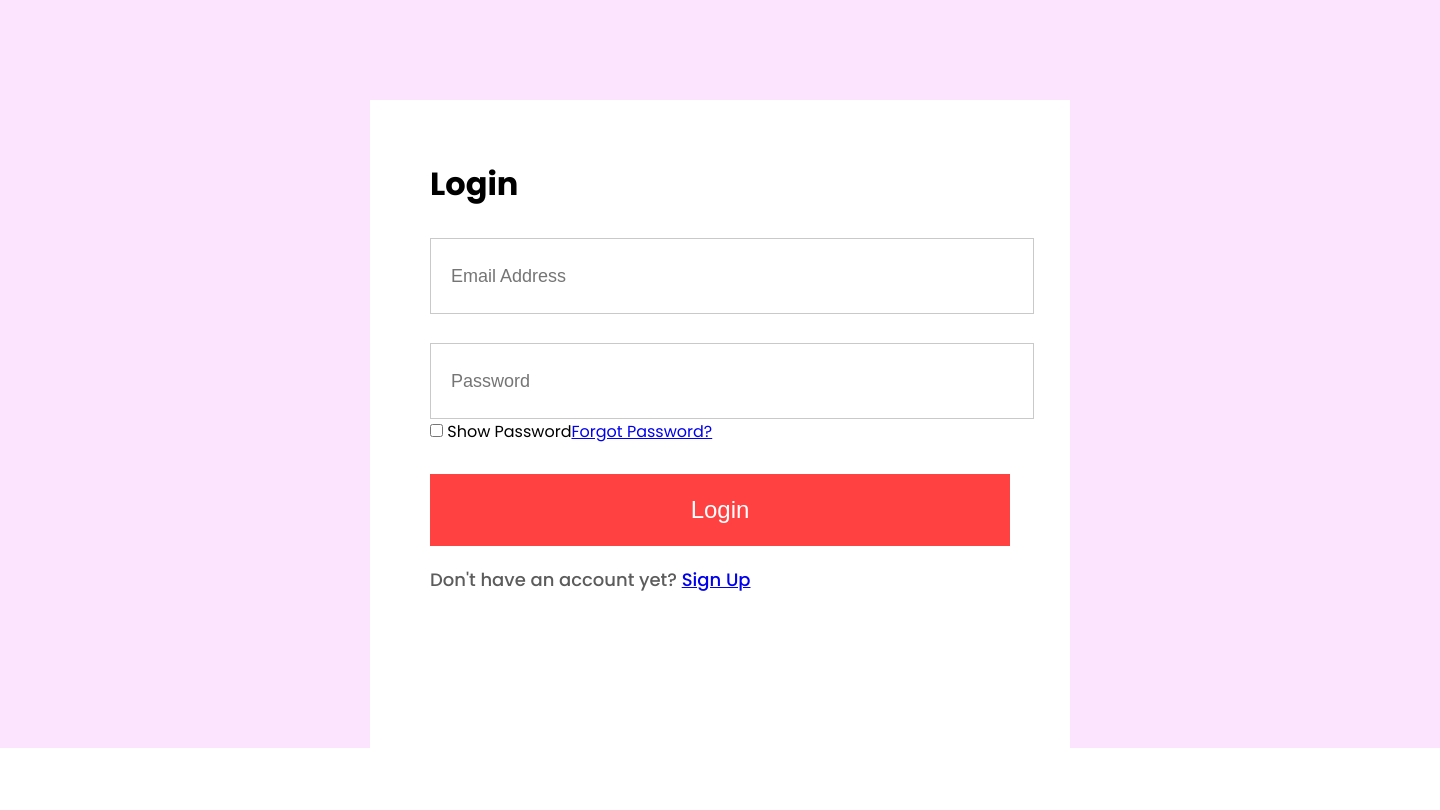
Test case: Login Component › shows error for empty email and password
Step 1. Click the button "Login" → (720, 510), box [430, 474, 1010, 546]
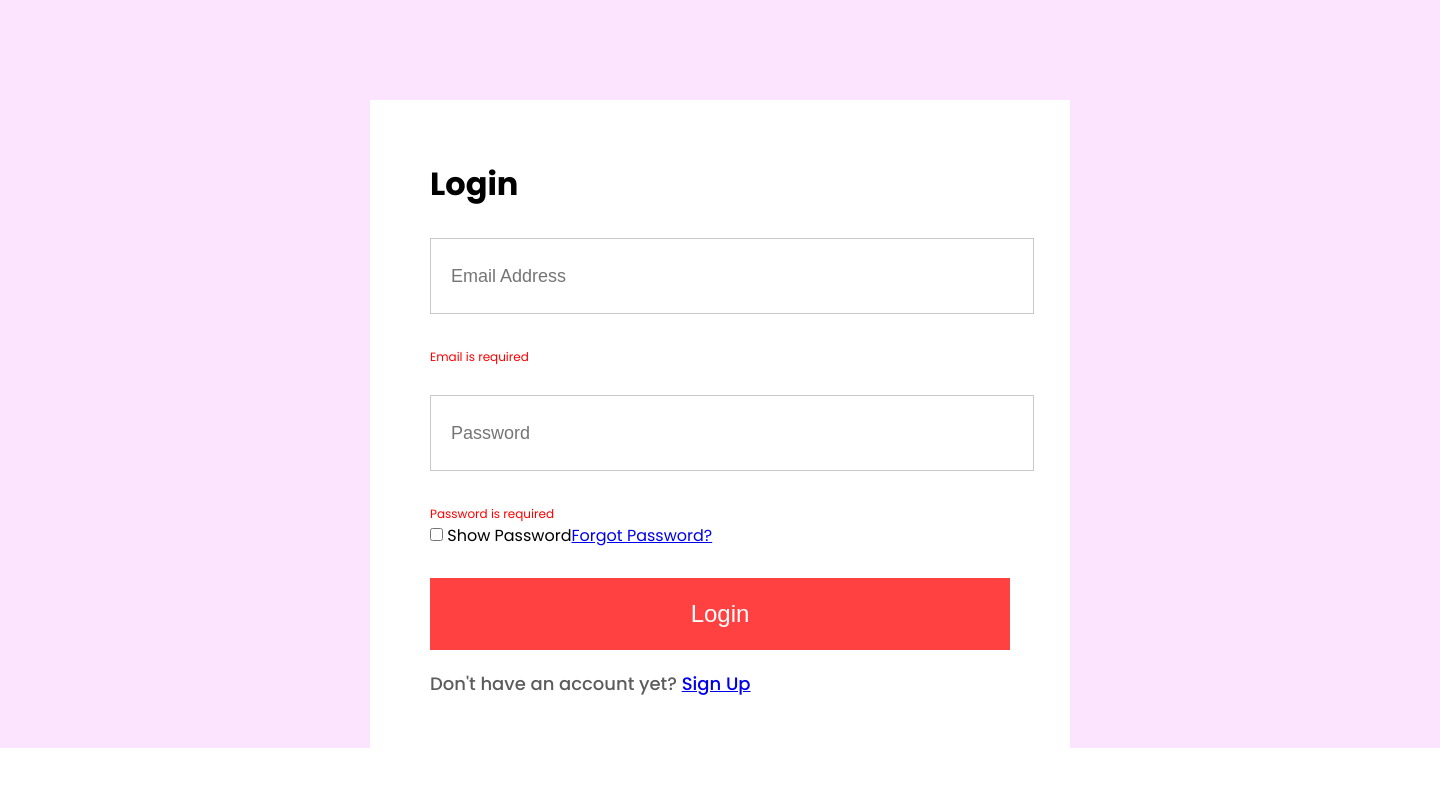
Result: the text "Email is required" is shown at [430, 348, 529, 365]
Result: the text "Password is required" is shown at [430, 505, 554, 522]
